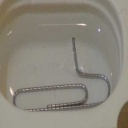Metal: (0, 31, 128, 125)
